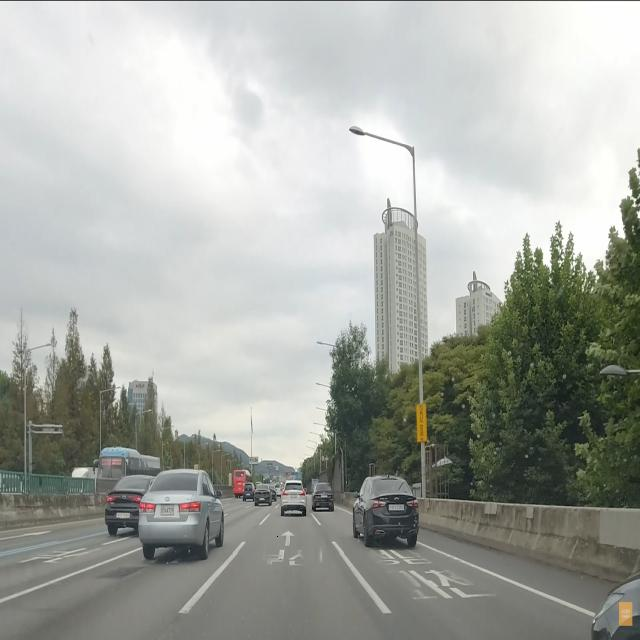forward: (226, 526, 345, 553)
